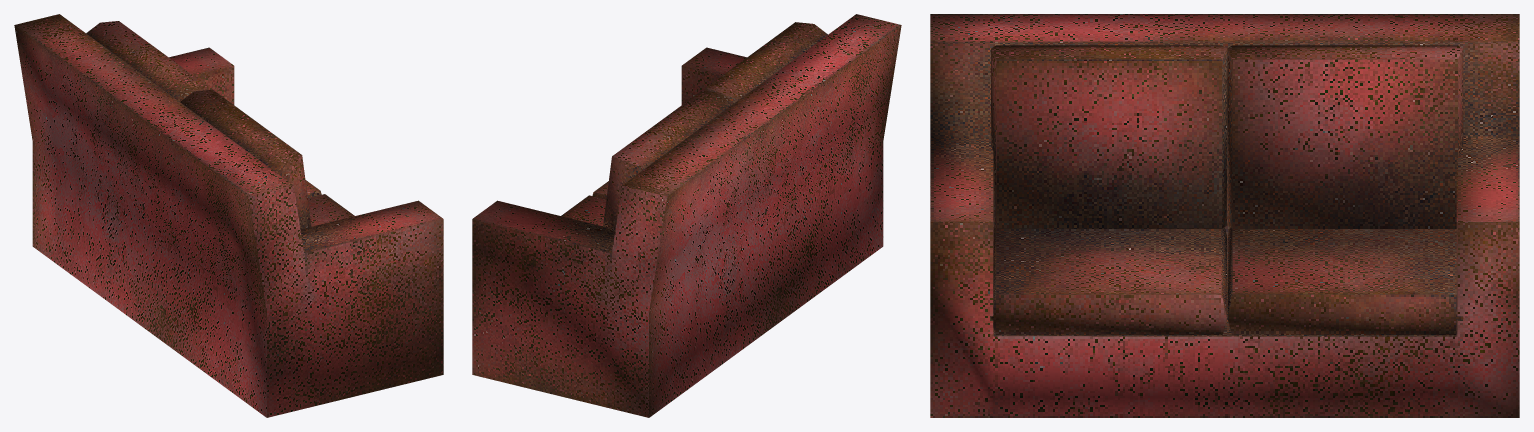
The model's file is psx_stylized_couch.glb.
3 views of the same model, side by side, from view 1: azimuth 30°, elevation 25°; view 2: azimuth 150°, elevation 25°; view 3: azimuth 270°, elevation 25° (orthographic). The views are drawn at different scales.
Parts seen in each view (by area): view 1: Cube, Cube.003, Cube.004, Cube.001; view 2: Cube, Cube.004, Cube.003, Cube.002; view 3: Cube, Cube.003, Cube.004, Cube.001, Cube.002.
Part boxes in pixels (<box>): Cube: <box>14,14,443,417</box>; Cube.003: <box>180,89,311,229</box>; Cube.004: <box>86,21,208,101</box>; Cube.001: <box>308,194,354,226</box>; Cube: <box>472,14,901,417</box>; Cube.004: <box>603,91,733,231</box>; Cube.003: <box>705,22,827,103</box>; Cube.002: <box>561,195,606,226</box>; Cube: <box>930,14,1519,417</box>; Cube.003: <box>991,45,1226,228</box>; Cube.004: <box>1227,45,1463,228</box>; Cube.001: <box>991,227,1226,334</box>; Cube.002: <box>1227,227,1463,334</box>.
Bounding box in the file's own units: 3.87 × 4.35 × 8.05.
Materials: 1 (1 with a texture image).
